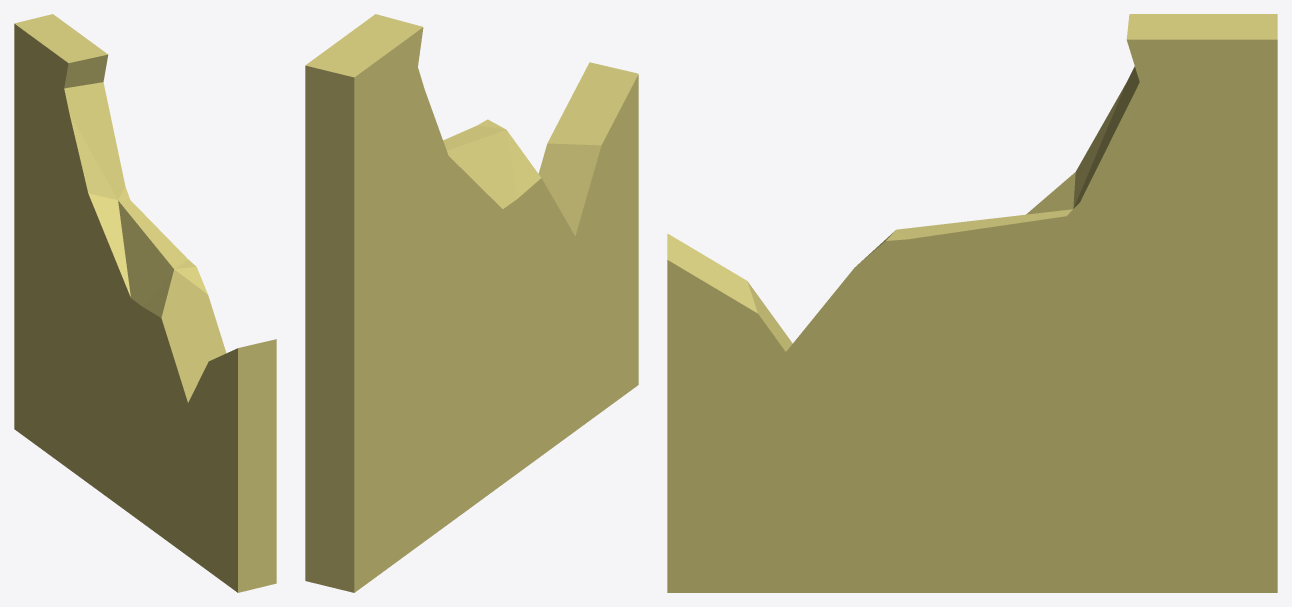
File: BrokenWall1.glb
3 renders of one model, left to right at view 1: azimuth 30°, elevation 25°; view 2: azimuth 150°, elevation 25°; view 3: azimuth 270°, elevation 25°, orthographic. The views are drawn at different scales.
Visible parts, largest first — view 1: BrokenWall1; view 2: BrokenWall1; view 3: BrokenWall1.
Boxes of the visible parts, x1,y1,x2,y2 form: BrokenWall1: (14,14,276,592); BrokenWall1: (305,14,638,592); BrokenWall1: (667,14,1277,592).
Size of the model in its own units: 0.2 by 2 by 2.
